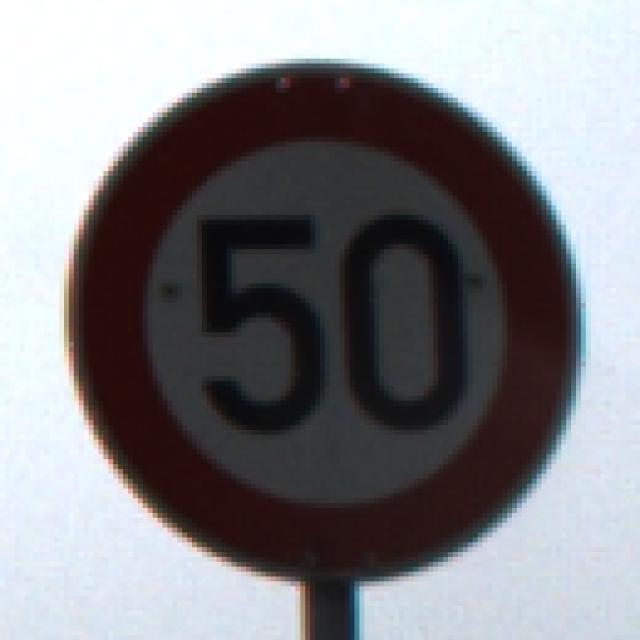speed limit 50: (70, 66, 585, 575)
